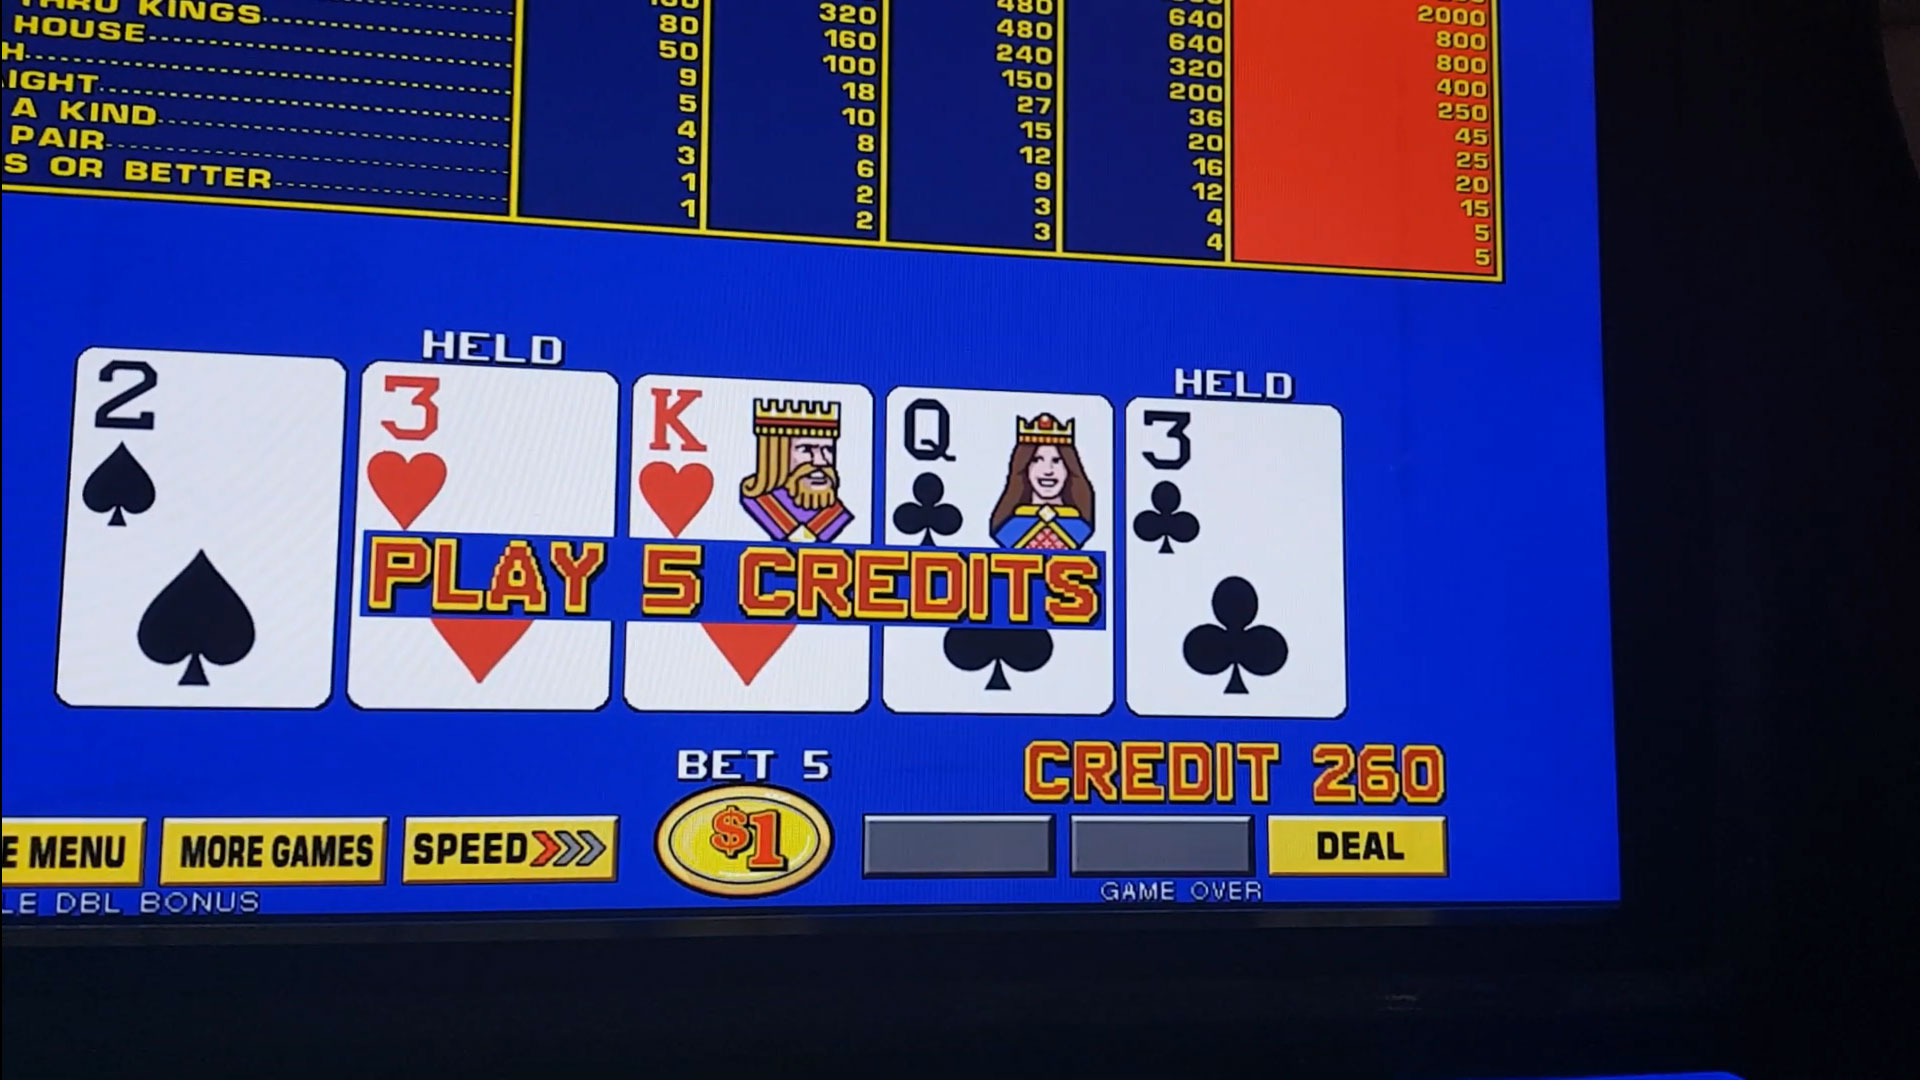C3: (1129, 407, 1337, 559)
CQ: (893, 400, 1110, 547)
H3: (365, 376, 616, 530)
HK: (637, 390, 866, 541)
S2: (74, 361, 334, 530)
